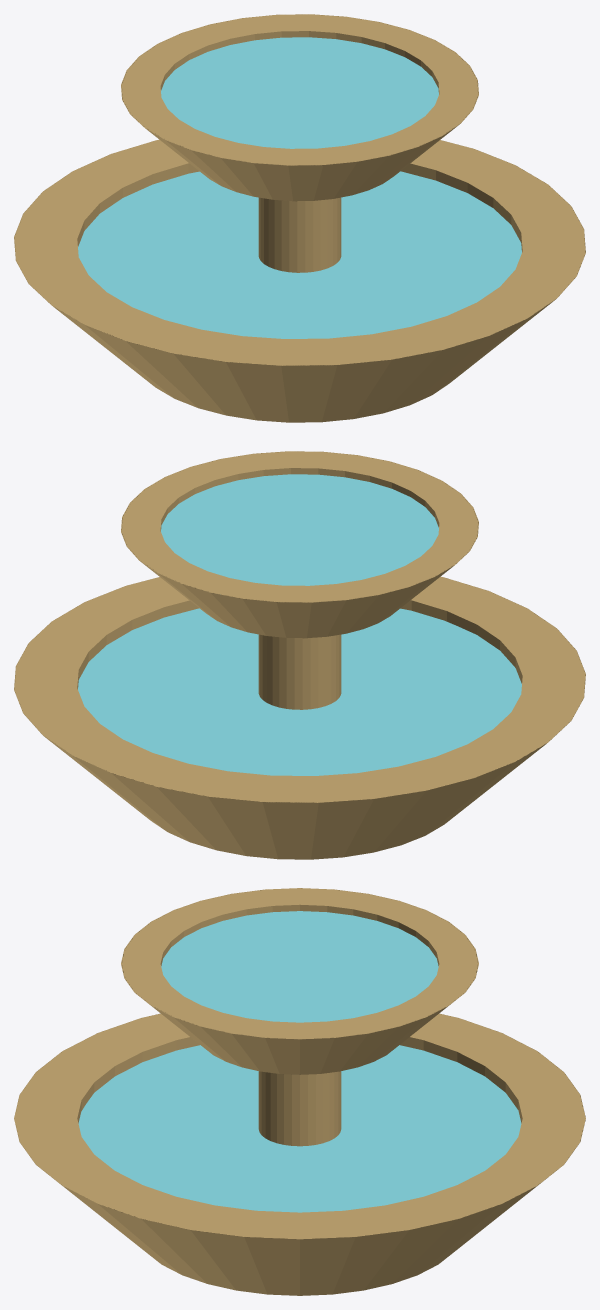
File: fountain.fbx
3 views of the same model, one above another, from view 1: azimuth 30°, elevation 25°; view 2: azimuth 150°, elevation 25°; view 3: azimuth 270°, elevation 25° (orthographic).
Visible parts, largest first — view 1: Fountain, water of fountain; view 2: Fountain, water of fountain; view 3: Fountain, water of fountain.
Part boxes in pixels (x1=…): Fountain: x1=14, y1=14, x2=585, y2=422; water of fountain: x1=78, y1=37, x2=521, y2=338; Fountain: x1=14, y1=451, x2=585, y2=859; water of fountain: x1=78, y1=474, x2=521, y2=775; Fountain: x1=14, y1=888, x2=585, y2=1295; water of fountain: x1=78, y1=911, x2=521, y2=1212.
Bounding box in the file's own units: 344 × 174 × 344.
Materials: 2 (2 with a texture image).
